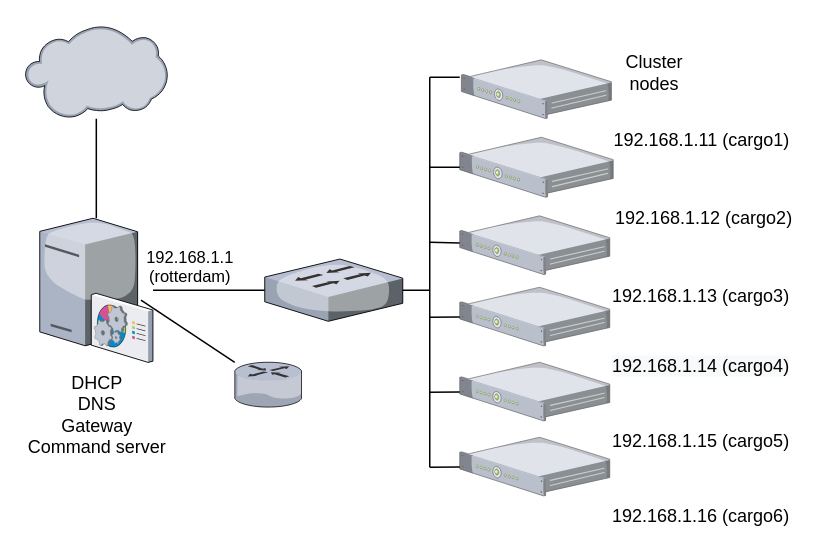
The diagram is 821 pixels wide and 554 high, and some of its shapes have lost their labels. The shapes that lost their labels are listed below. From the top down, each one's centre as x and y in pixels, then its label:
the point at 95,71: Internet
the point at 333,289: Switch
the point at 268,384: 3 other ports available
